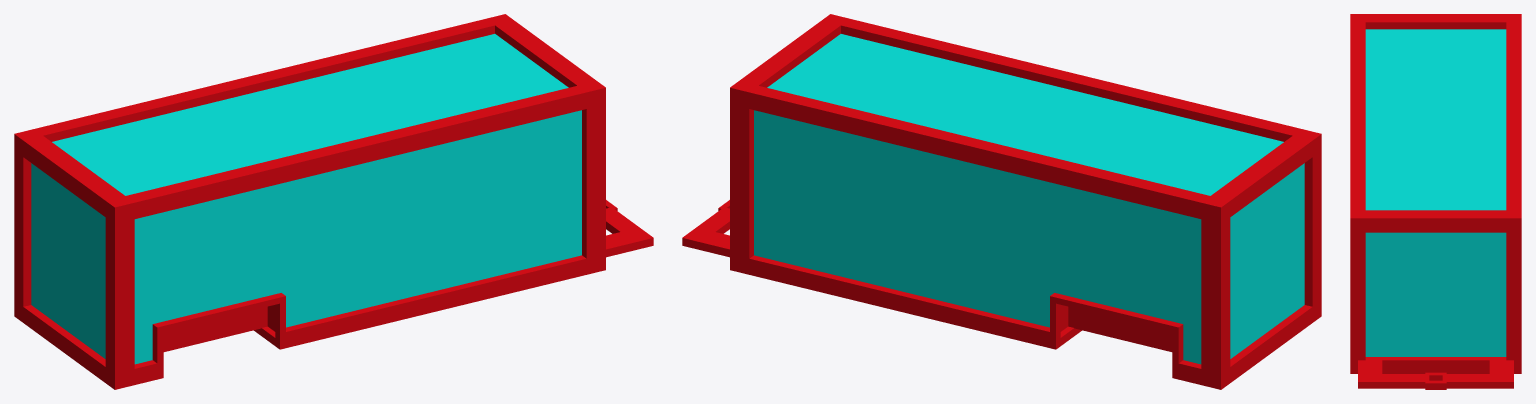
Rendered from trailer1.fbx.
3 views of the same model, side by side, from view 1: azimuth 30°, elevation 25°; view 2: azimuth 150°, elevation 25°; view 3: azimuth 270°, elevation 25° (orthographic). The views are drawn at different scales.
Visible parts, largest first — view 1: Cube; view 2: Cube; view 3: Cube.
Part boxes in pixels (left/top/right/bottom): Cube: left=14, top=14, right=653, bottom=389; Cube: left=682, top=14, right=1321, bottom=389; Cube: left=1350, top=14, right=1521, bottom=389.
Bounding box in the file's own units: 690 × 220 × 220.
